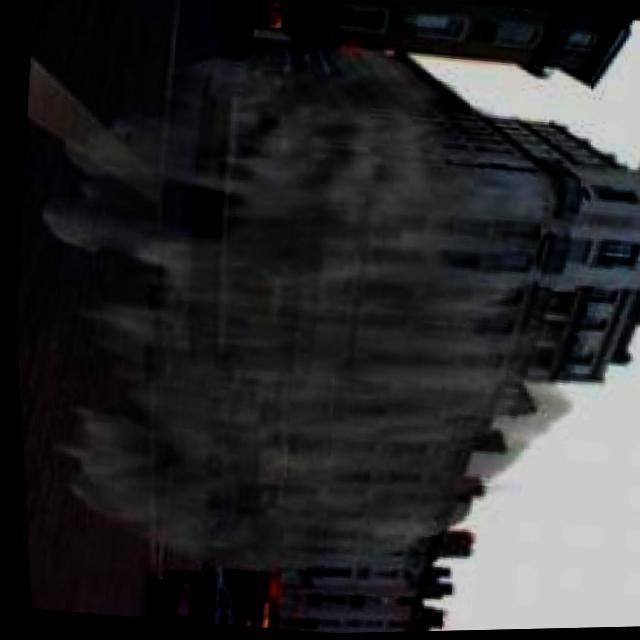no_helmet: (1, 10, 614, 610)
